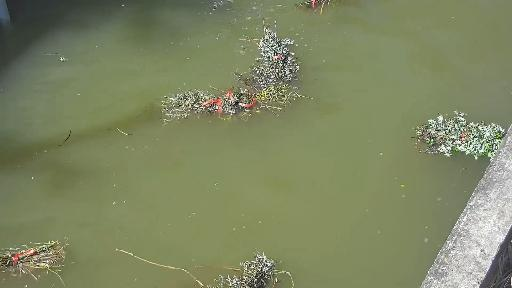twig: (91, 249, 304, 288), (413, 109, 511, 166), (160, 87, 317, 121), (0, 227, 82, 277), (239, 26, 304, 68), (288, 4, 364, 14)
